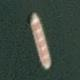ship: (0, 0, 22, 32)
